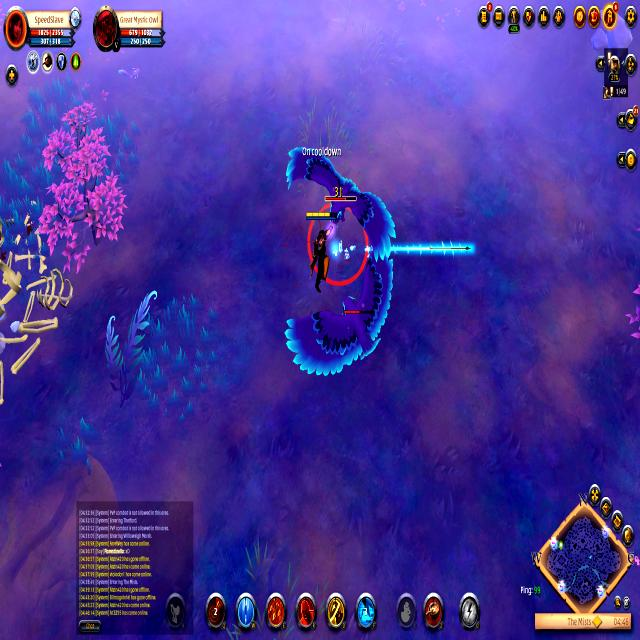ore: (283, 257, 402, 382), (282, 140, 400, 262)
red: (304, 207, 336, 290)
